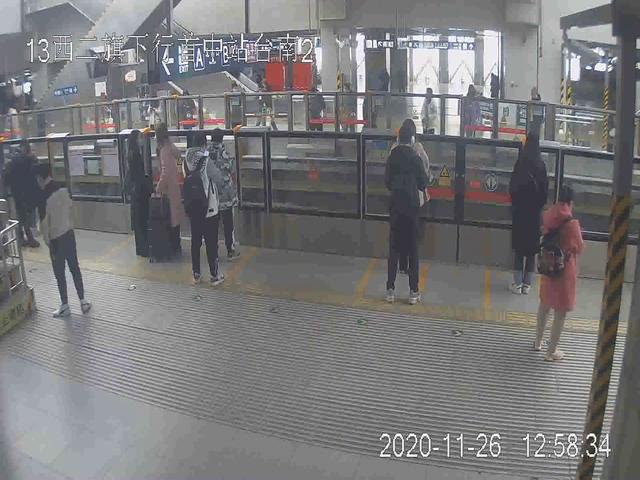person: (34, 164, 89, 317), (534, 183, 581, 360), (384, 124, 427, 302), (182, 133, 227, 288), (509, 129, 551, 292), (148, 127, 184, 259), (208, 129, 241, 263), (122, 131, 154, 252)
